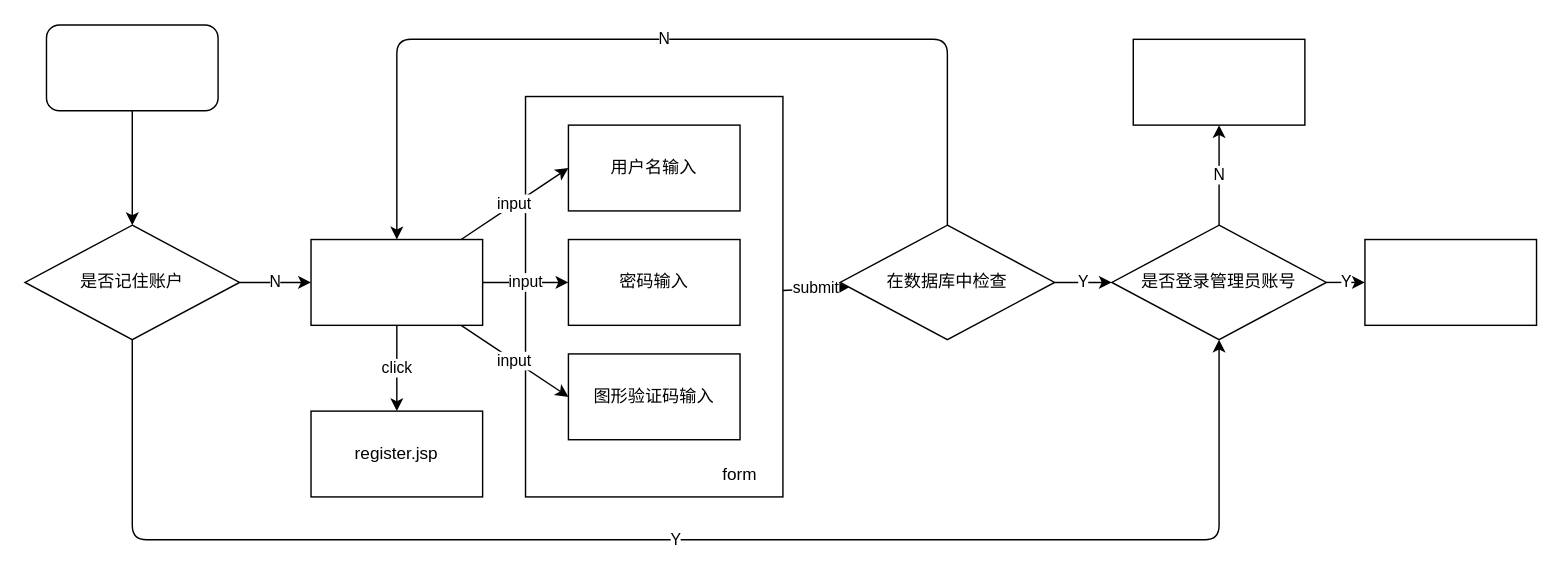
This 1562x576 diagram has some shape labels left out. The centre of each missing label's shape, as x and y in pixels:
admin.html: the point at 1450,281
index.html: the point at 1218,81
index.jsp: the point at 131,67
未记住账户: the point at 396,281
